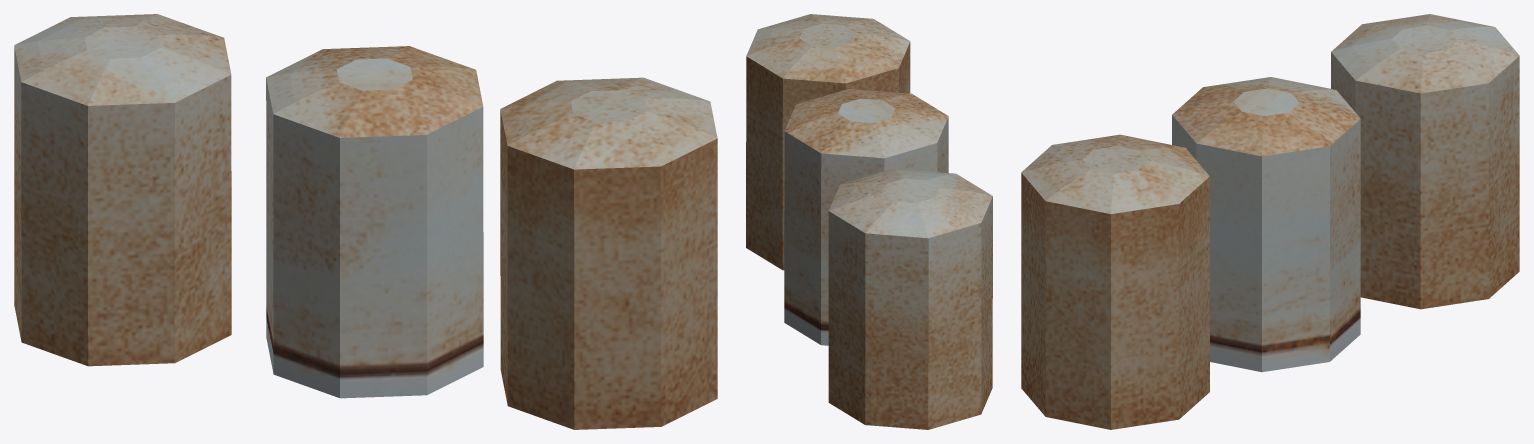
The model's file is youguan_01_11.fbx.
3 renders of one model, left to right at view 1: azimuth 30°, elevation 25°; view 2: azimuth 150°, elevation 25°; view 3: azimuth 270°, elevation 25°, orthographic. The views are drawn at different scales.
Visible parts, largest first — view 1: Youguan_01_11; view 2: Youguan_01_11; view 3: Youguan_01_11.
Boxes of the visible parts, left/top/right/bottom form: Youguan_01_11: left=14, top=14, right=717, bottom=429; Youguan_01_11: left=746, top=14, right=992, bottom=429; Youguan_01_11: left=1021, top=14, right=1519, bottom=429.
Size of the model in its own units: 1616 by 865 by 1697.
